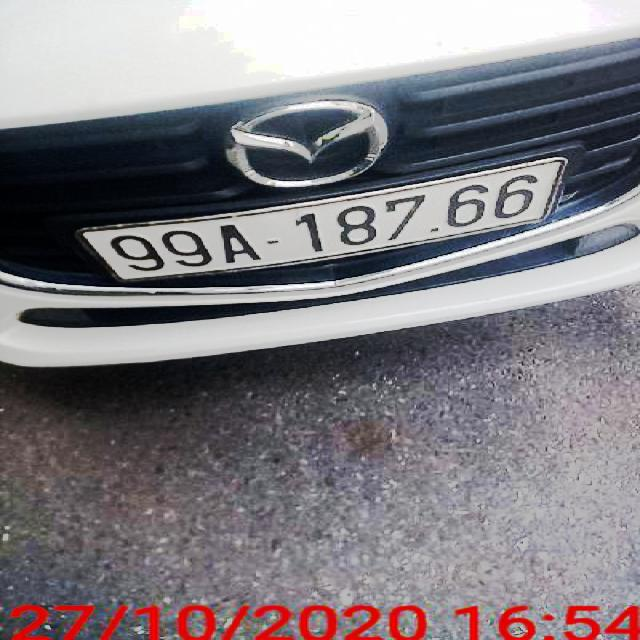license_plate: (86, 156, 561, 282)
